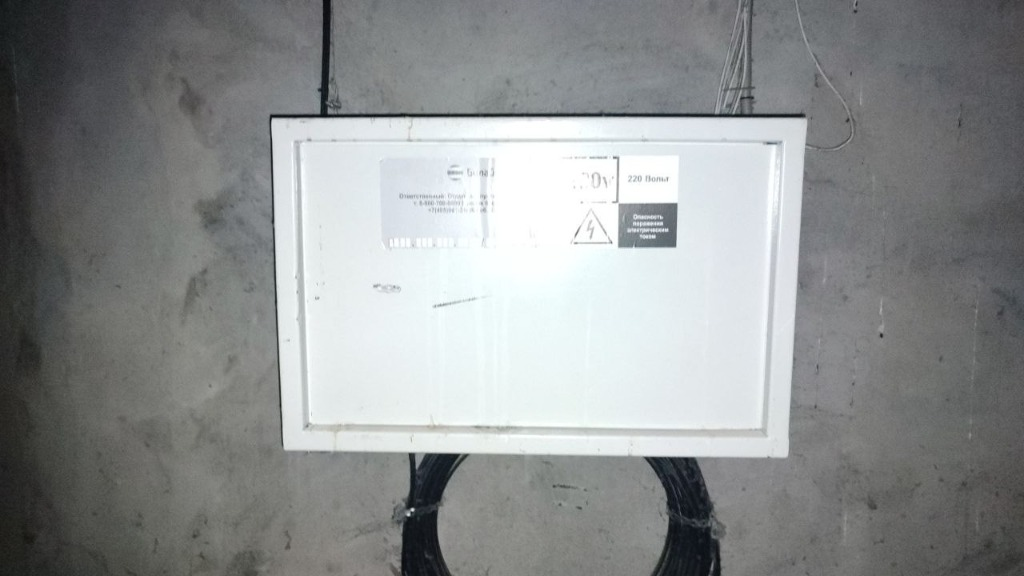shta-7m: (265, 112, 812, 464)
